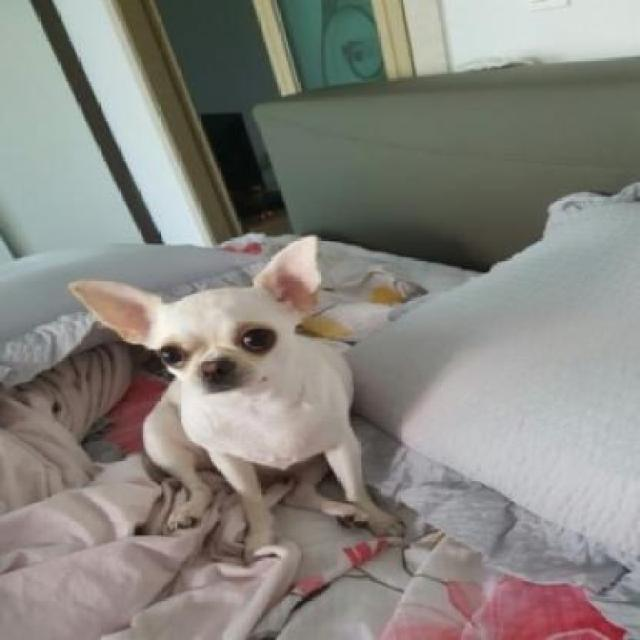Dog: (69, 235, 414, 571)
